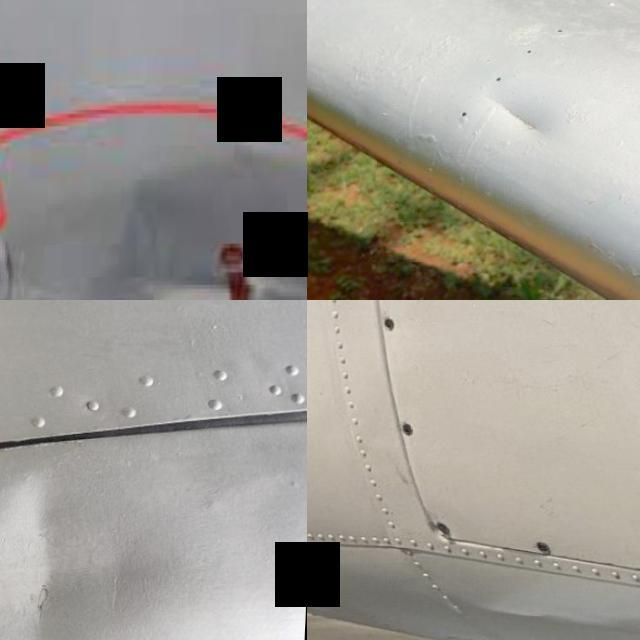Dent: (28, 144, 307, 300), (0, 469, 222, 640), (456, 51, 575, 156)
